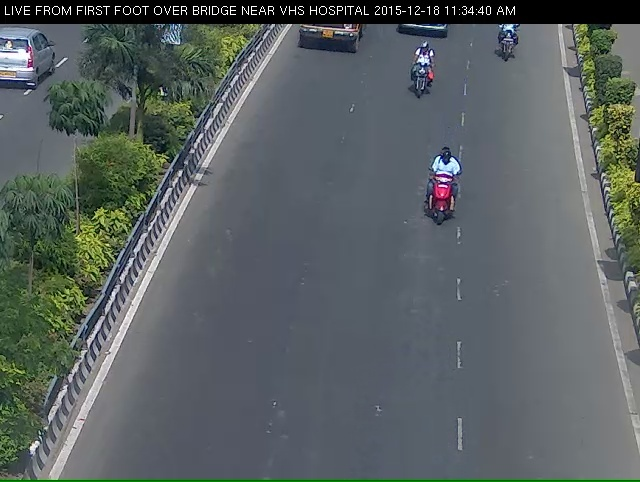Bus: (294, 21, 360, 62)
Person: (424, 155, 465, 255), (489, 23, 532, 70), (406, 46, 437, 110)
